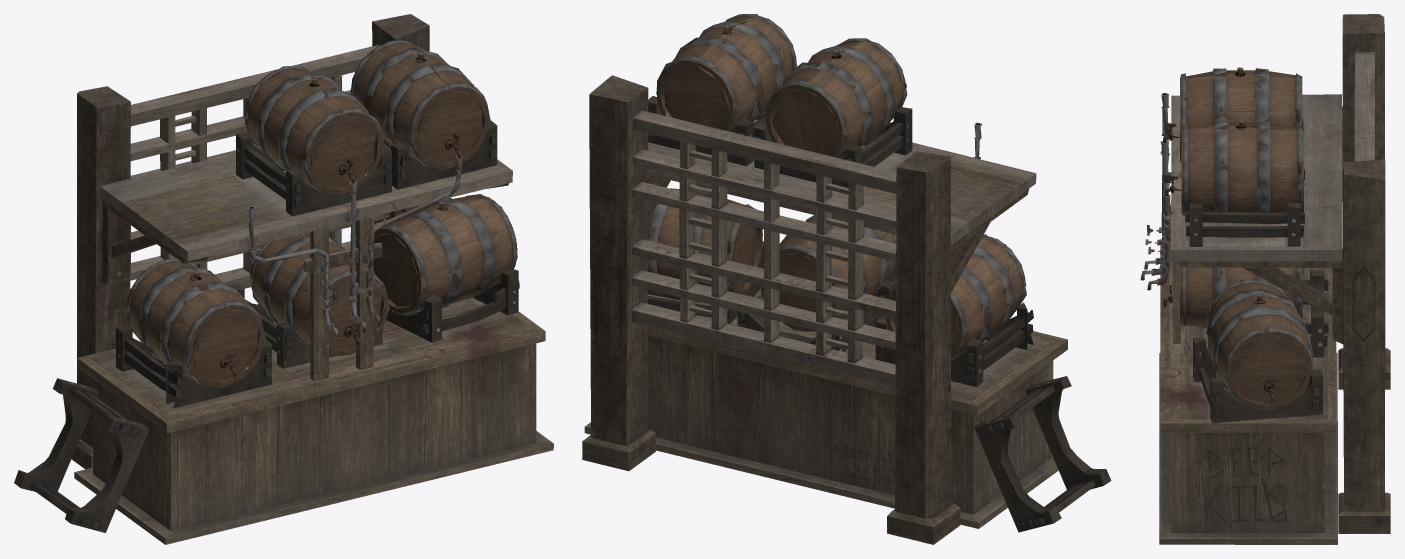
The model's file is cask_rack.glb.
3 views of the same model, side by side, from view 1: azimuth 30°, elevation 25°; view 2: azimuth 150°, elevation 25°; view 3: azimuth 270°, elevation 25° (orthographic). The views are drawn at different scales.
Visible parts, largest first — view 1: Object_6; view 2: Object_6; view 3: Object_6.
Boxes of the visible parts, x1,y1,x2,y2 form: Object_6: (14, 14, 553, 544); Object_6: (582, 14, 1111, 544); Object_6: (1140, 14, 1390, 544).
Size of the model in its own units: 3.94 by 3.17 by 1.88.
Materials: 7 (7 with a texture image).
